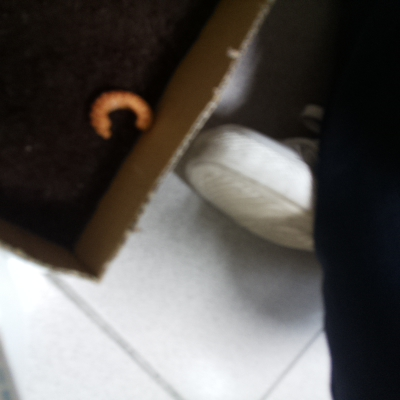eggs: (86, 86, 159, 146)
